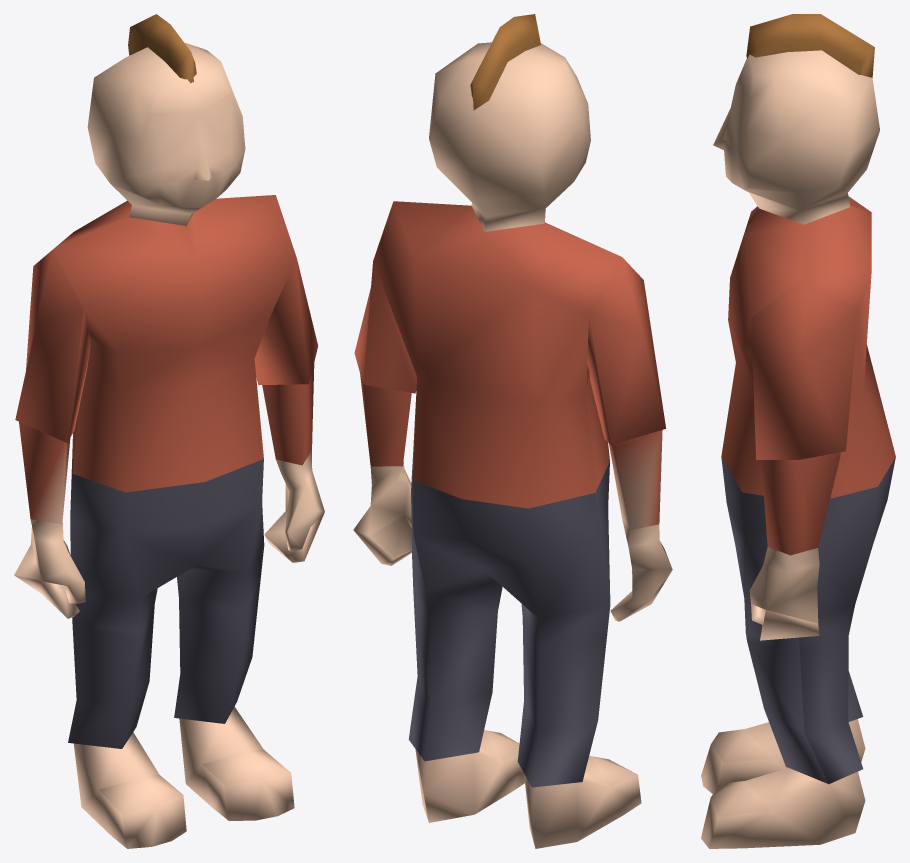
The model's file is humanoid.glb.
3 renders of one model, left to right at view 1: azimuth 30°, elevation 25°; view 2: azimuth 150°, elevation 25°; view 3: azimuth 270°, elevation 25°, orthographic. The views are drawn at different scales.
Visible parts, largest first — view 1: TorsoM2, Legs2, Head4, Feet1, Hands1, Hair4; view 2: TorsoM2, Legs2, Head4, Feet1, Hands1, Hair4; view 3: TorsoM2, Legs2, Head4, Feet1, Hands1, Hair4.
Part boxes in pixels (<box>): TorsoM2: <box>15,195,317,523</box>; Legs2: <box>68,449,264,748</box>; Head4: <box>87,43,245,225</box>; Feet1: <box>73,706,294,848</box>; Hands1: <box>14,451,324,618</box>; Hair4: <box>128,14,196,83</box>; TorsoM2: <box>354,201,665,529</box>; Legs2: <box>408,452,610,787</box>; Head4: <box>429,42,590,231</box>; Feet1: <box>415,730,641,848</box>; Hands1: <box>353,461,672,621</box>; Hair4: <box>470,14,540,110</box>; TorsoM2: <box>721,196,895,555</box>; Legs2: <box>721,457,895,784</box>; Head4: <box>713,50,879,224</box>; Feet1: <box>701,719,865,848</box>; Hands1: <box>749,547,819,640</box>; Hair4: <box>746,14,874,77</box>.
Size of the model in its own units: 0.5931 by 1.45 by 0.3225.
